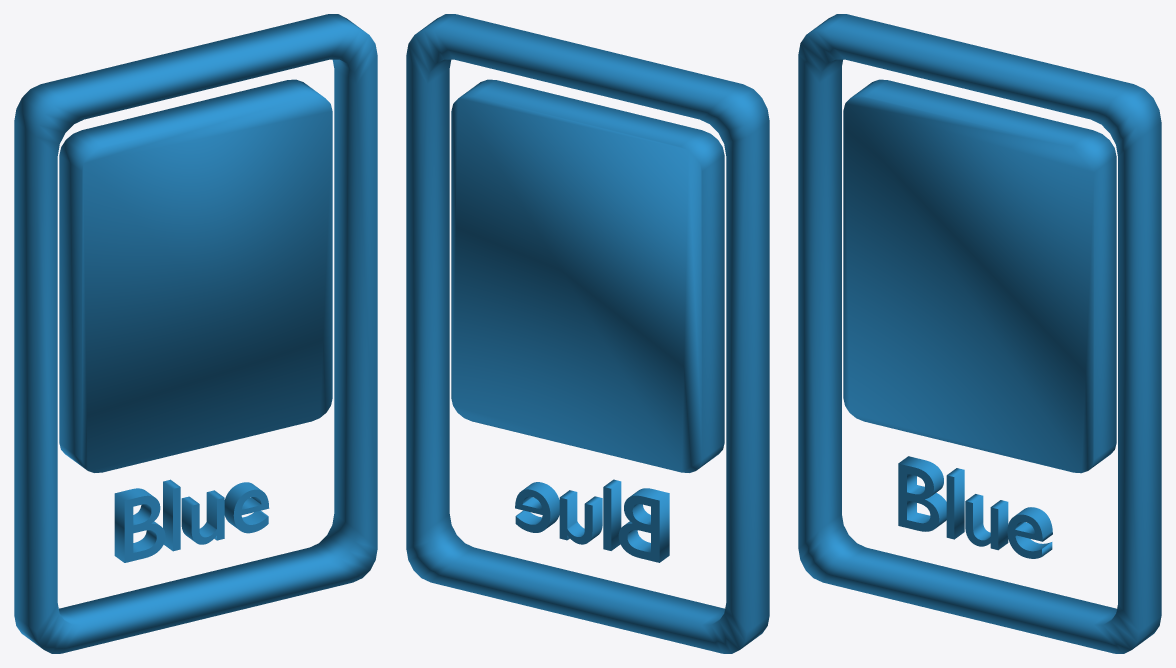
File: Color_Blue.gltf
3 renders of one model, left to right at view 1: azimuth 30°, elevation 25°; view 2: azimuth 150°, elevation 25°; view 3: azimuth 330°, elevation 25°, orthographic.
Visible parts, largest first — view 1: Text.006; view 2: Text.006; view 3: Text.006.
Boxes of the visible parts, x1,y1,x2,y2 form: Text.006: (14,14,377,653); Text.006: (406,14,769,653); Text.006: (798,14,1161,653).
Bounding box in the file's own units: 1 × 1.56 × 0.1143.
